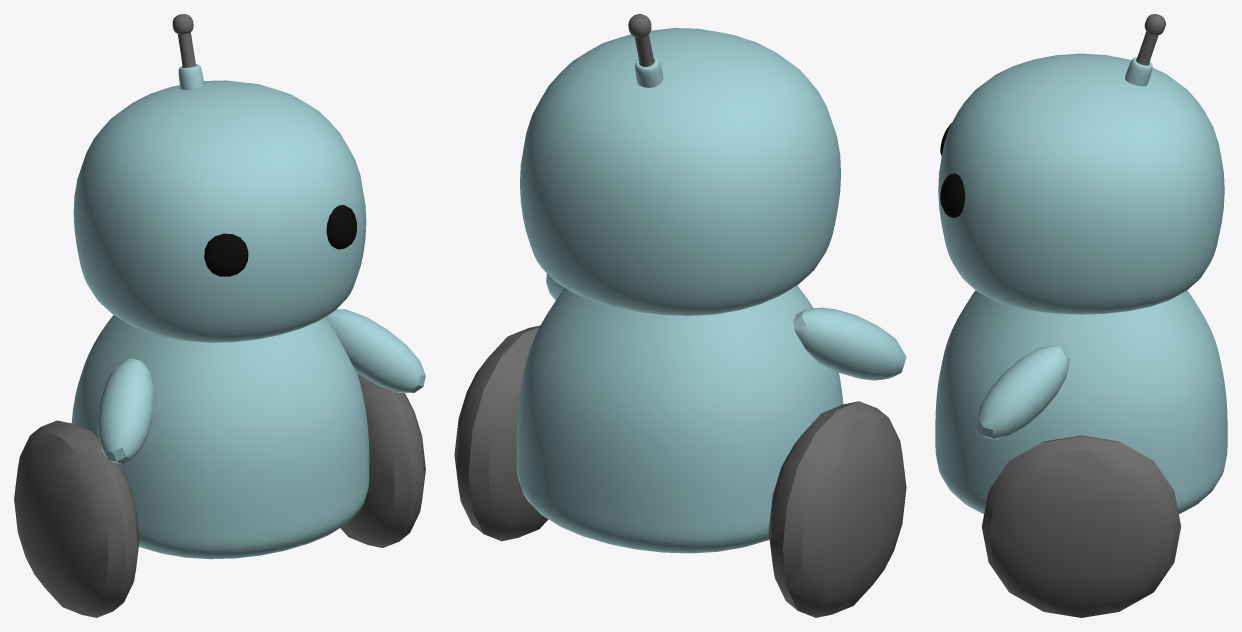
File: Robot.fbx
3 renders of one model, left to right at view 1: azimuth 30°, elevation 25°; view 2: azimuth 150°, elevation 25°; view 3: azimuth 270°, elevation 25°, orthographic. The views are drawn at different scales.
Visible parts, largest first — view 1: Cube.006; view 2: Cube.006; view 3: Cube.006.
Boxes of the visible parts, x1,y1,x2,y2 form: Cube.006: (14,14,425,617); Cube.006: (454,14,906,617); Cube.006: (935,14,1227,617).
Bounding box in the file's own units: 15.52 × 21.98 × 10.94.
